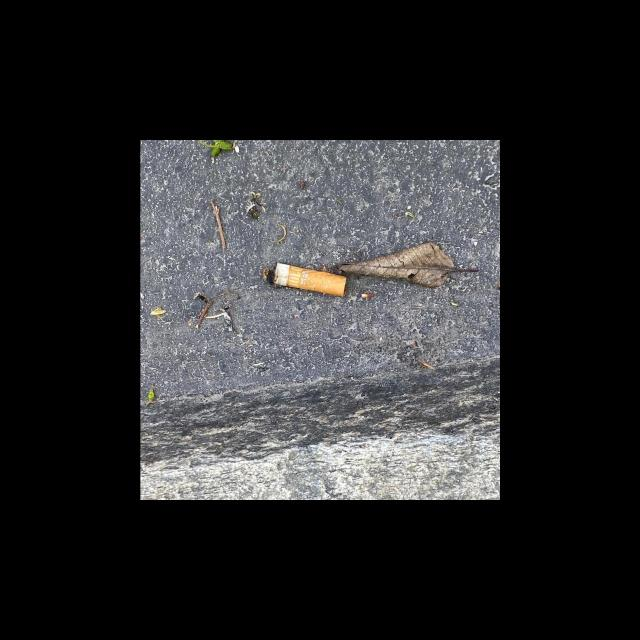cigarette: (272, 262, 348, 298)
